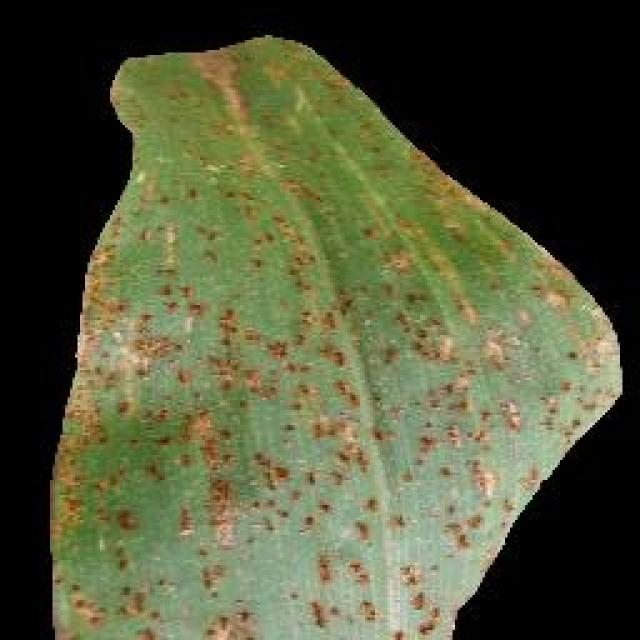Corn Common Rust: (125, 143, 490, 637)
